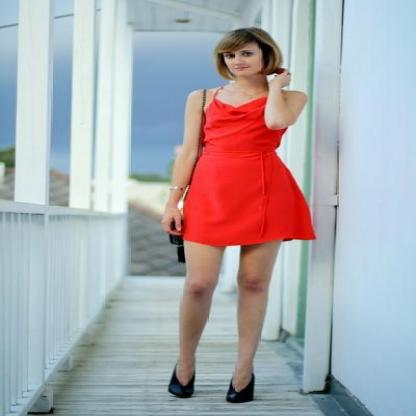dress: (182, 97, 311, 246)
shoe: (168, 375, 256, 402)
